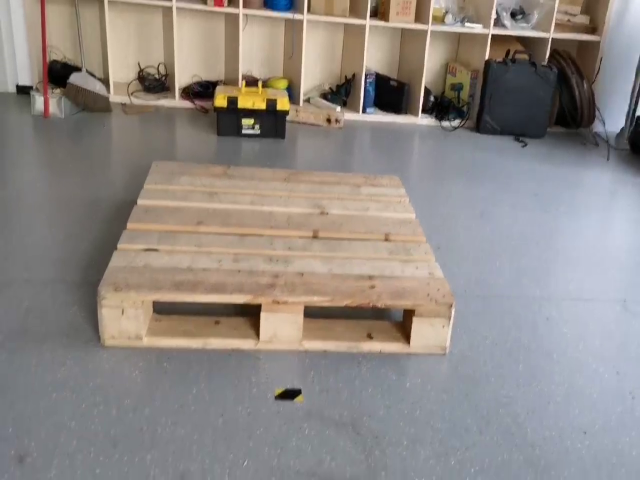block: (249, 297, 305, 350), (96, 297, 146, 349), (409, 305, 452, 352)
front: (95, 295, 451, 353)
hole pallet: (142, 302, 263, 344), (300, 307, 409, 340)
